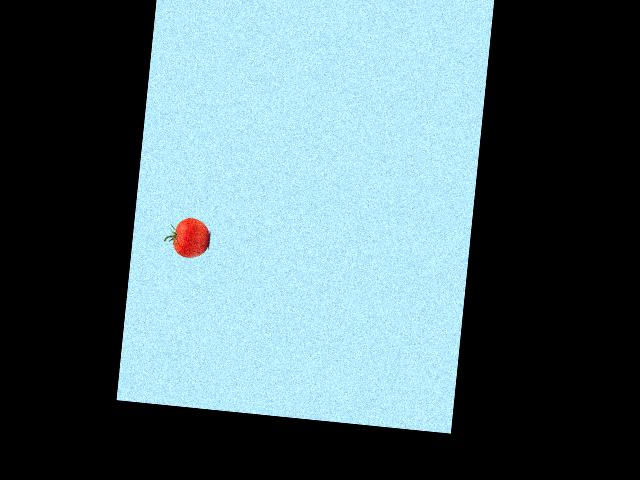tomato: (172, 215, 210, 259)
